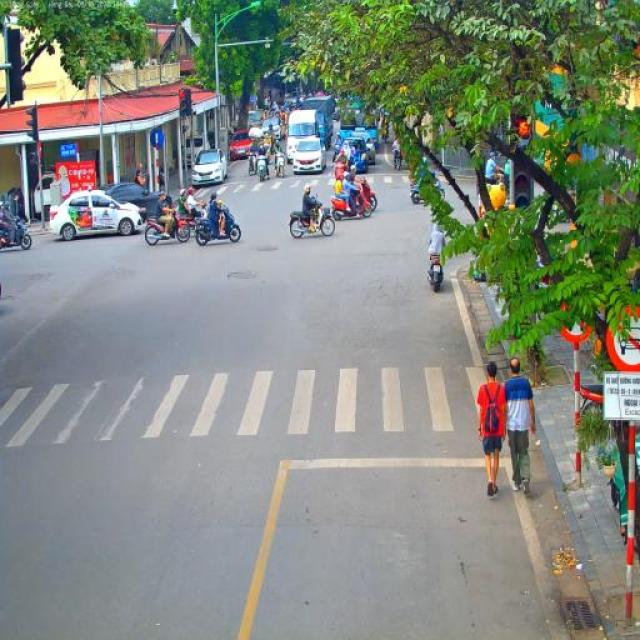bus: (534, 66, 640, 176)
car: (48, 189, 144, 242), (104, 182, 172, 222), (191, 148, 228, 188), (292, 136, 327, 174), (340, 135, 369, 175), (348, 130, 377, 165), (184, 134, 206, 170), (229, 130, 251, 160), (232, 112, 260, 132), (260, 118, 281, 142)
motorcycle: (288, 198, 336, 240), (195, 204, 241, 245), (144, 206, 191, 245), (331, 184, 373, 221), (172, 204, 210, 234), (408, 176, 447, 205), (0, 217, 32, 252), (426, 239, 444, 293), (355, 175, 377, 211), (333, 158, 348, 188), (256, 154, 270, 182), (274, 152, 285, 178), (247, 152, 257, 176), (332, 144, 342, 168), (393, 149, 403, 170), (262, 136, 273, 155)
truck: (285, 109, 326, 162), (296, 96, 336, 148), (338, 93, 379, 139), (263, 71, 286, 105), (284, 77, 304, 112)
